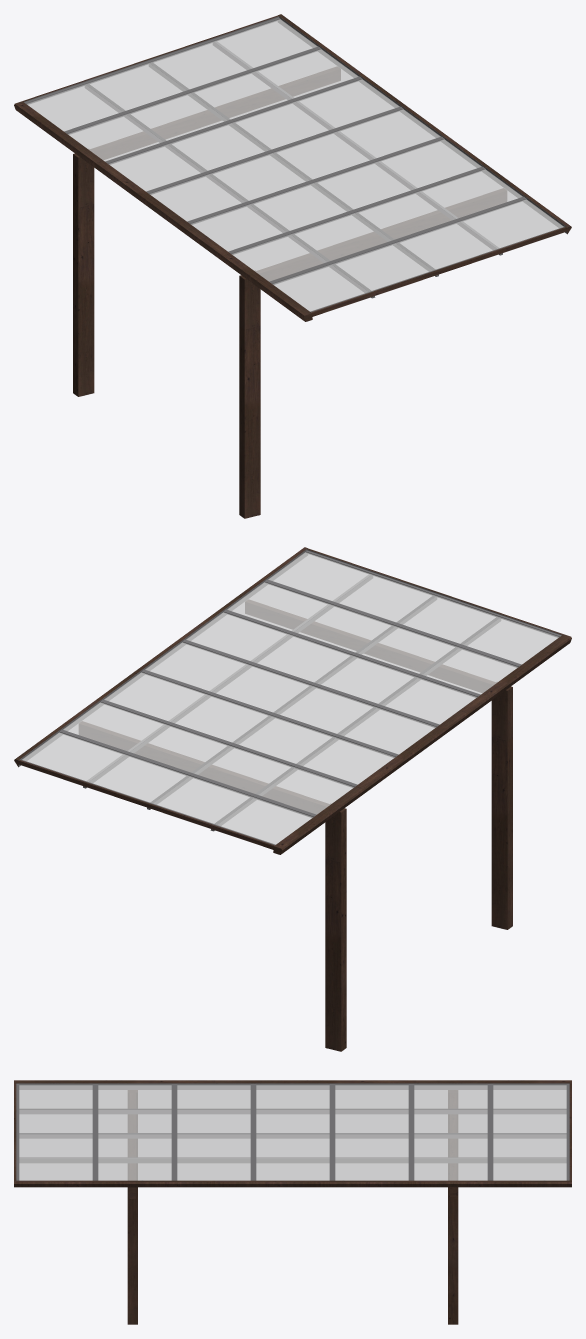
Rendered from 2750-22_darkpine.fbx.
3 renders of one model, top to bottom at view 1: azimuth 30°, elevation 25°; view 2: azimuth 150°, elevation 25°; view 3: azimuth 270°, elevation 25°, orthographic. The views are drawn at different scales.
Parts seen in each view (by area): view 1: 2750-22darkpine; view 2: 2750-22darkpine; view 3: 2750-22darkpine.
Boxes of the visible parts, x1,y1,x2,y2 form: 2750-22darkpine: (14, 14, 571, 518); 2750-22darkpine: (14, 547, 571, 1051); 2750-22darkpine: (14, 1080, 571, 1324).
Size of the model in its own units: 270 by 260 by 505.
4 materials, 2 textured.
